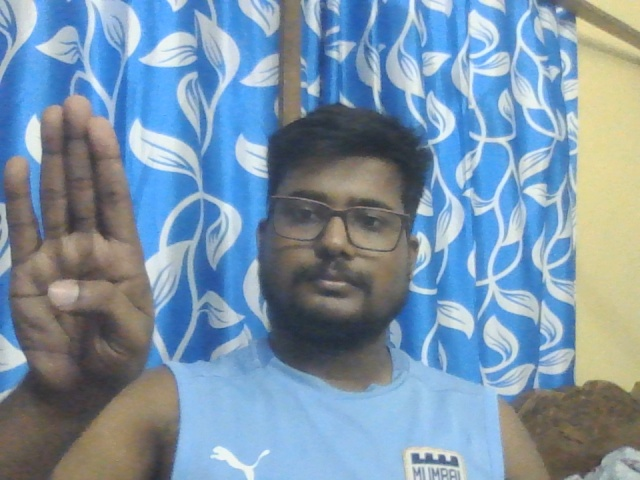B: (6, 94, 153, 394)
